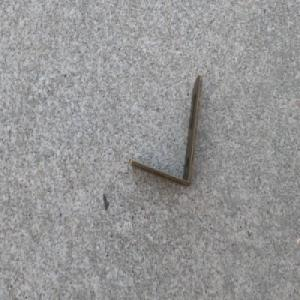MetalPart: (129, 74, 203, 189)
